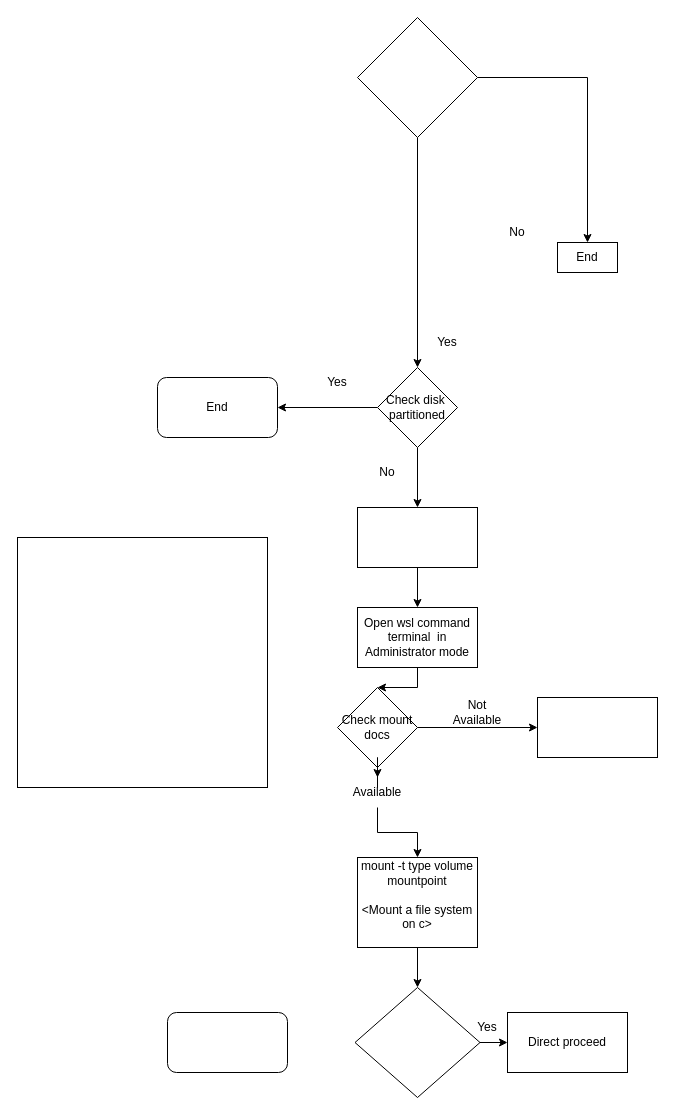
This 675x1115 diagram has some shape labels left out. Each missing label, with the centre of its shape:
"Check file system.(wsl its drvfs) and know volume letter" goes at (x=417, y=1042).
"Check Windows Build 2200" goes at (x=417, y=77).
"Close Linux WSL Window" goes at (x=417, y=537).
"You need Path," goes at (x=142, y=662).
